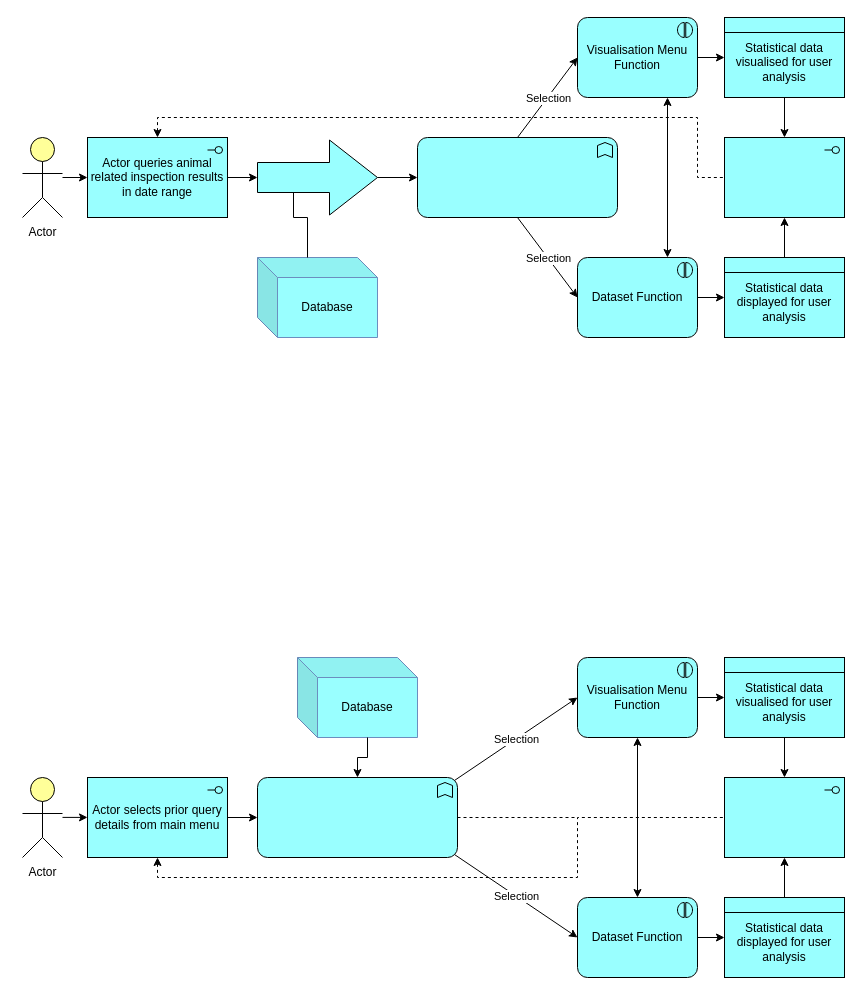
Some shapes in this 862 by 995 pixel diagram are drawn without their labels. Here are the shapes that lost their labels. From the top down, the centre of each, then its label:
[317,177]: Tool Searches Database
[517,177]: Tools lists instances of queried items contained in database
[784,177]: Actor returns to main page for new query
[357,817]: Tools lists history of queries for actor selection
[784,817]: Actor returns to query history or main page for new query
